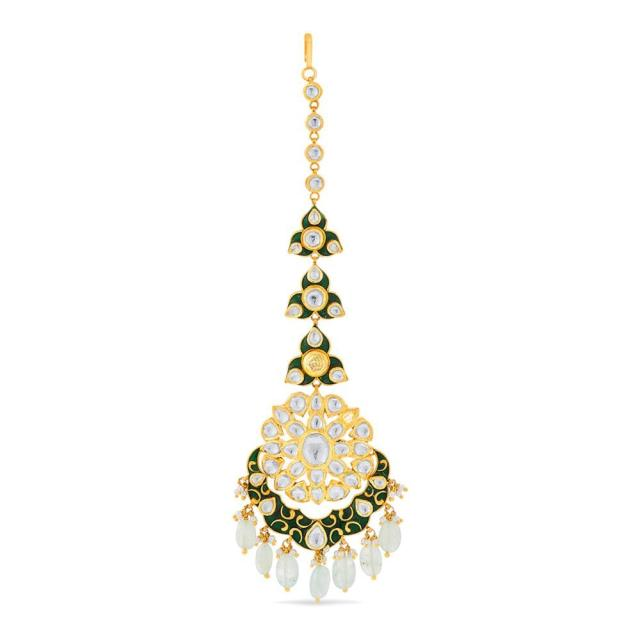missing gem: (303, 350, 329, 376), (341, 410, 356, 425)
